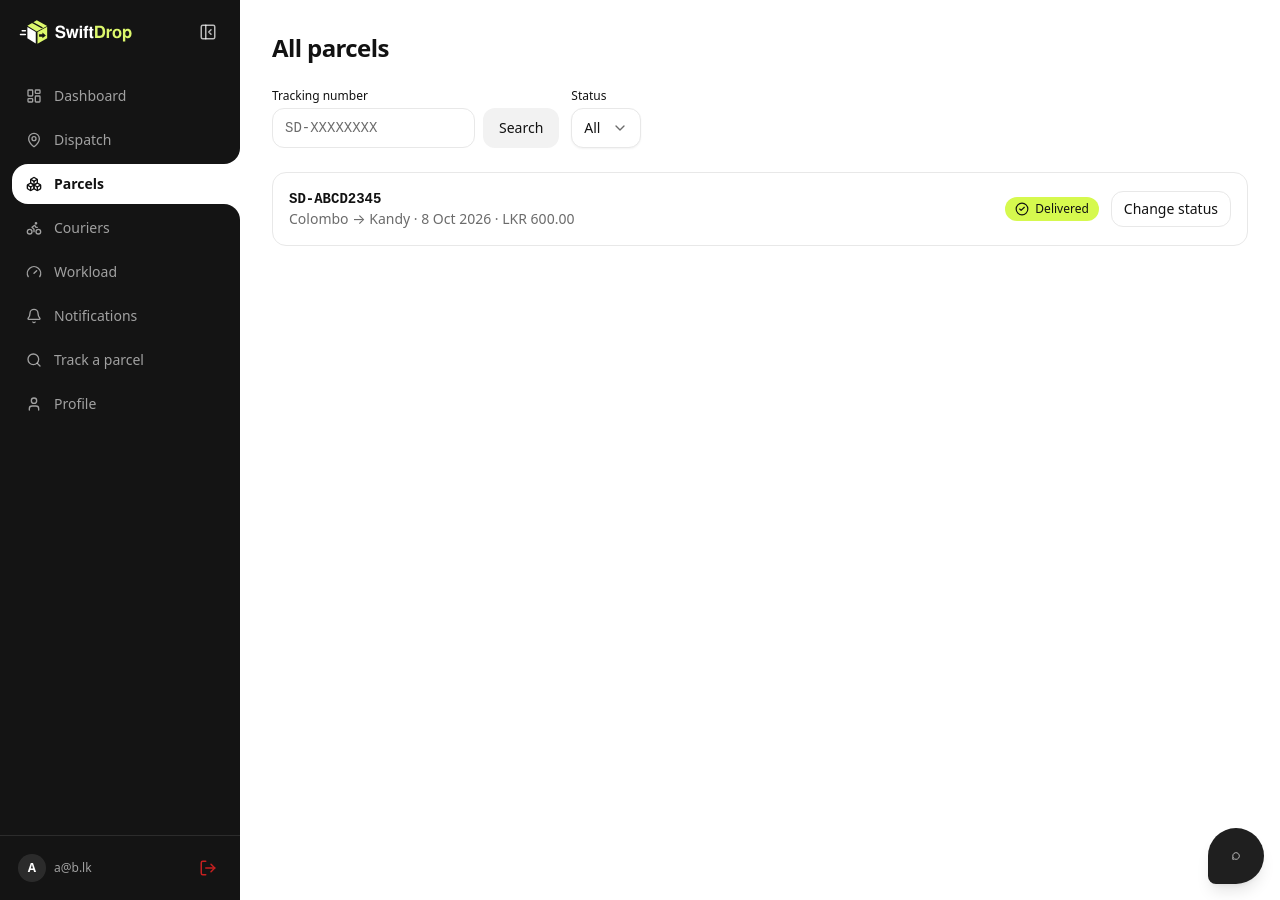
Test: all parcels › says a final-state parcel cannot be changed
Click the button "Change status" at (1171, 209), box left=1111, top=191, right=1231, bottom=227
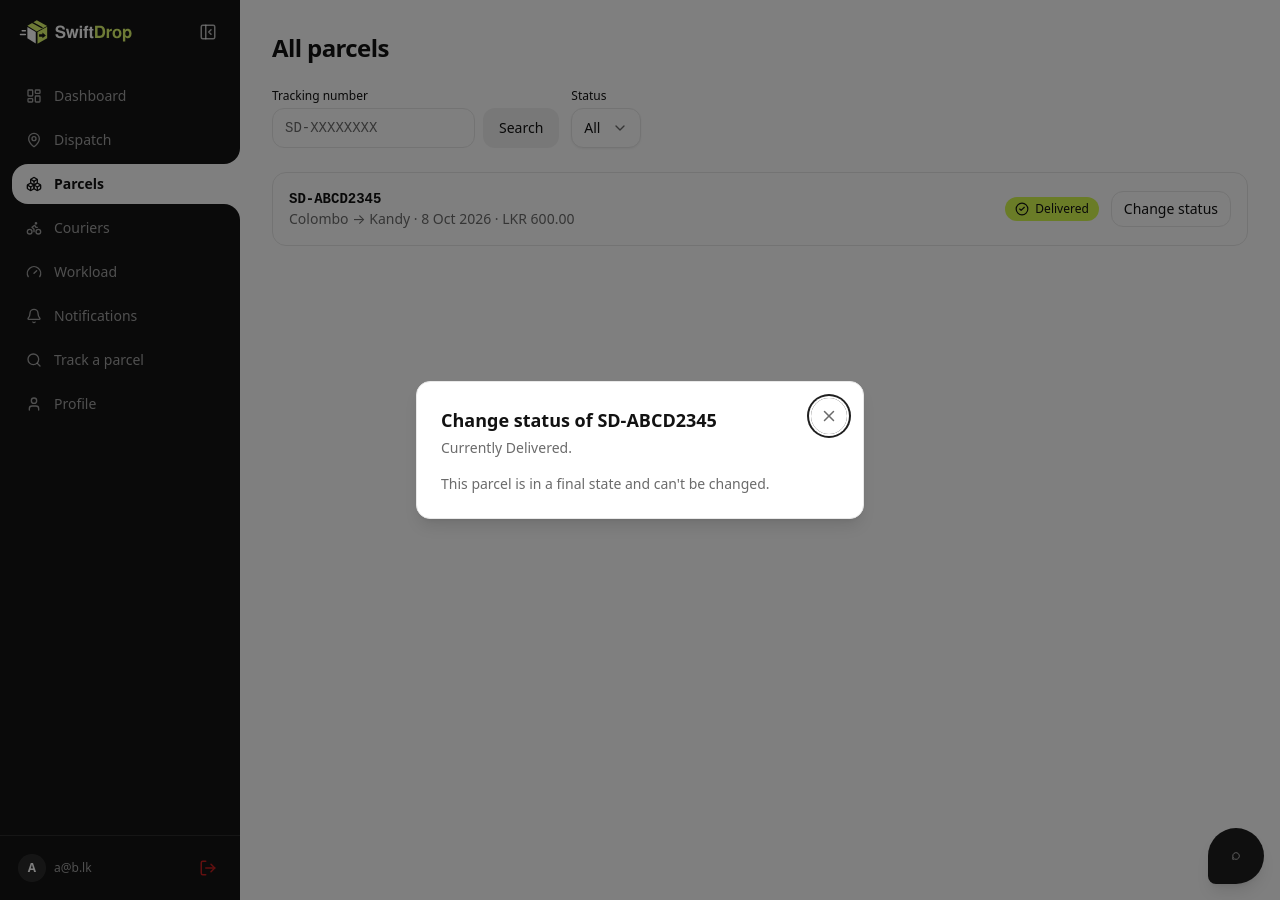
Now the text "This parcel is in a final state and can't be changed." is shown, box left=441, top=474, right=770, bottom=493
